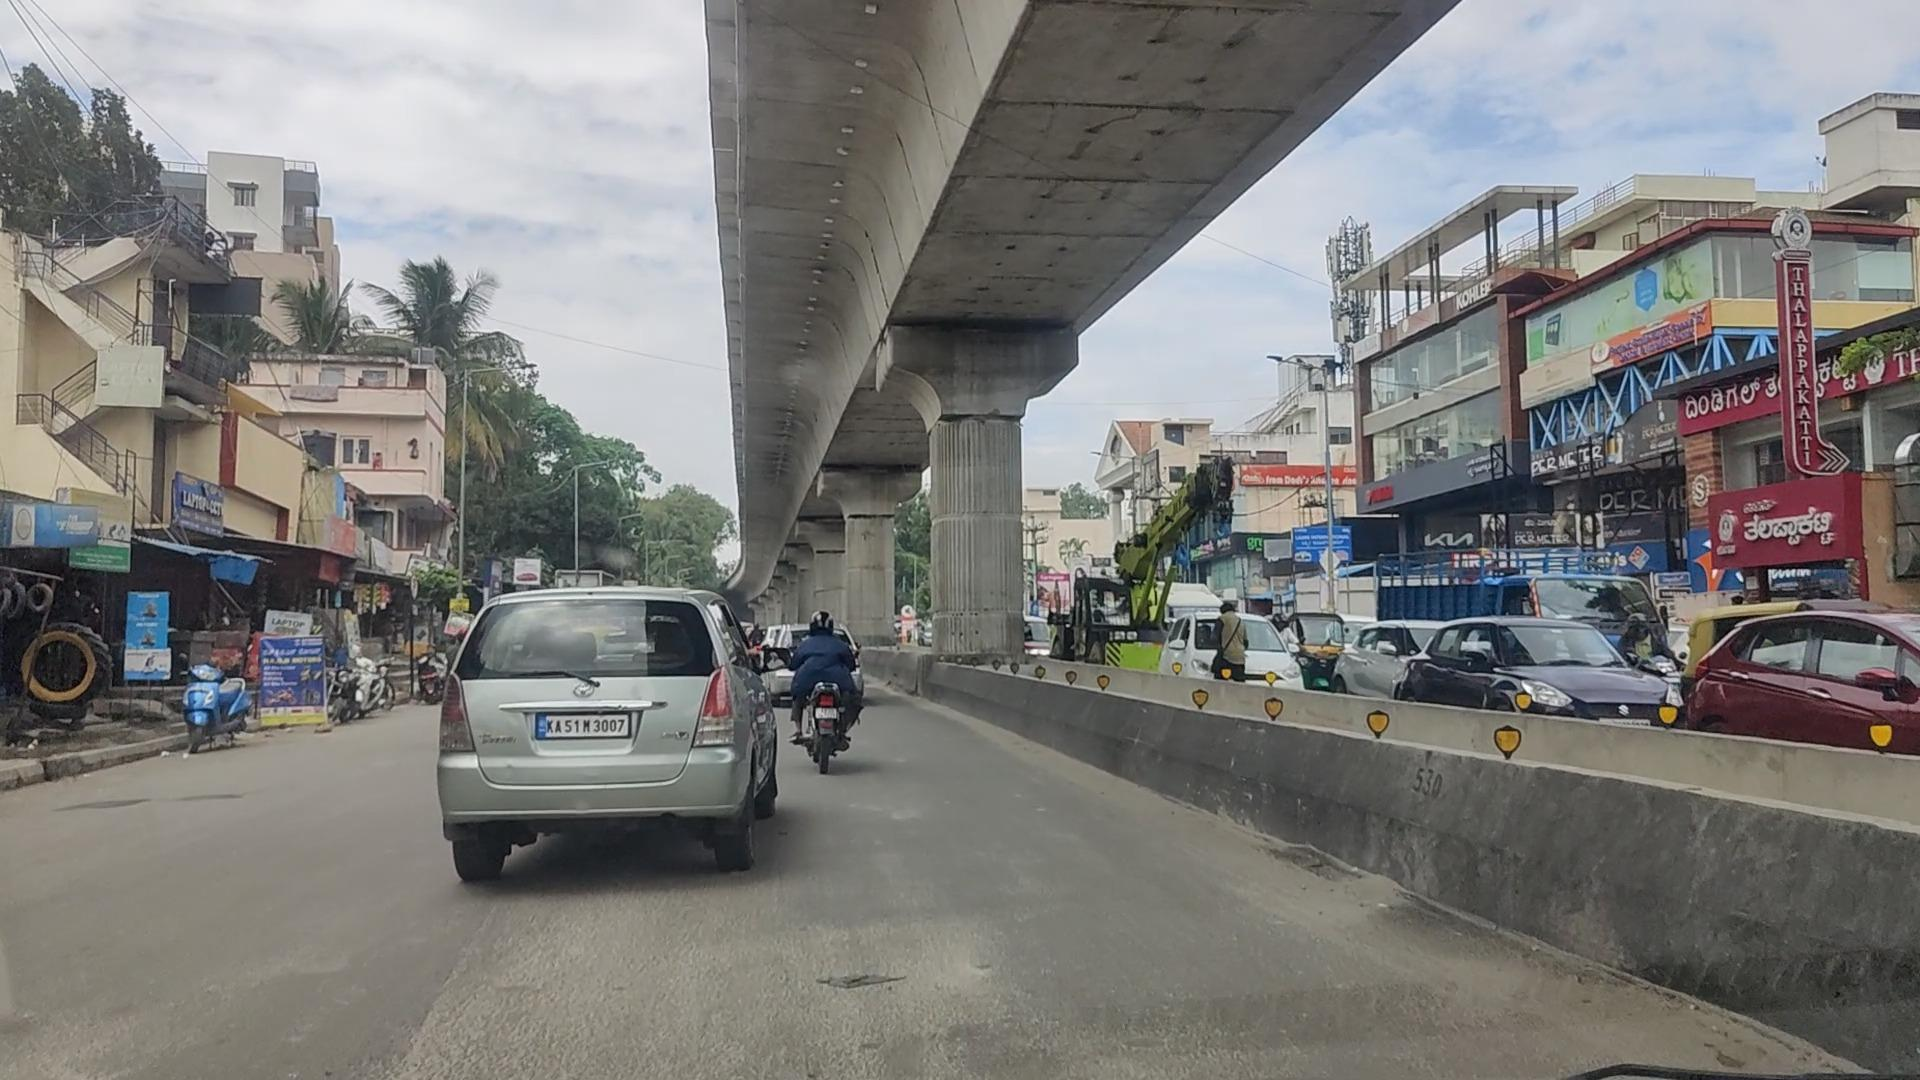LMV: (439, 579, 754, 897), (791, 608, 873, 787)
